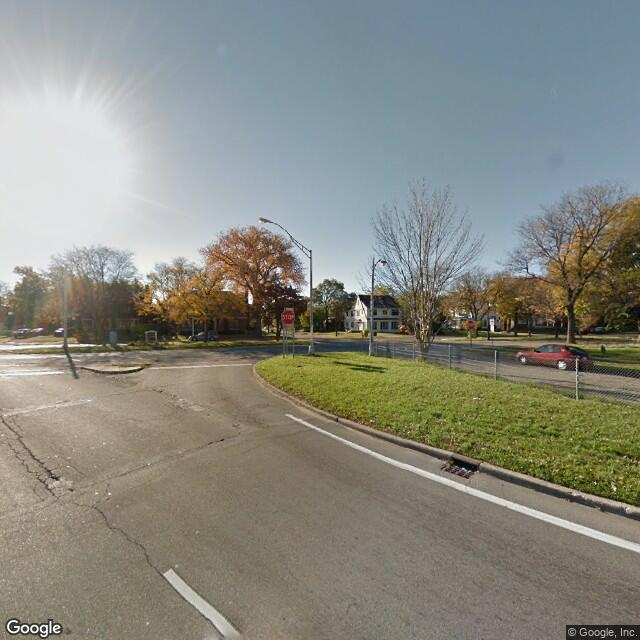litter: (609, 483, 620, 494), (454, 466, 470, 471), (368, 418, 378, 424), (470, 396, 483, 400)
